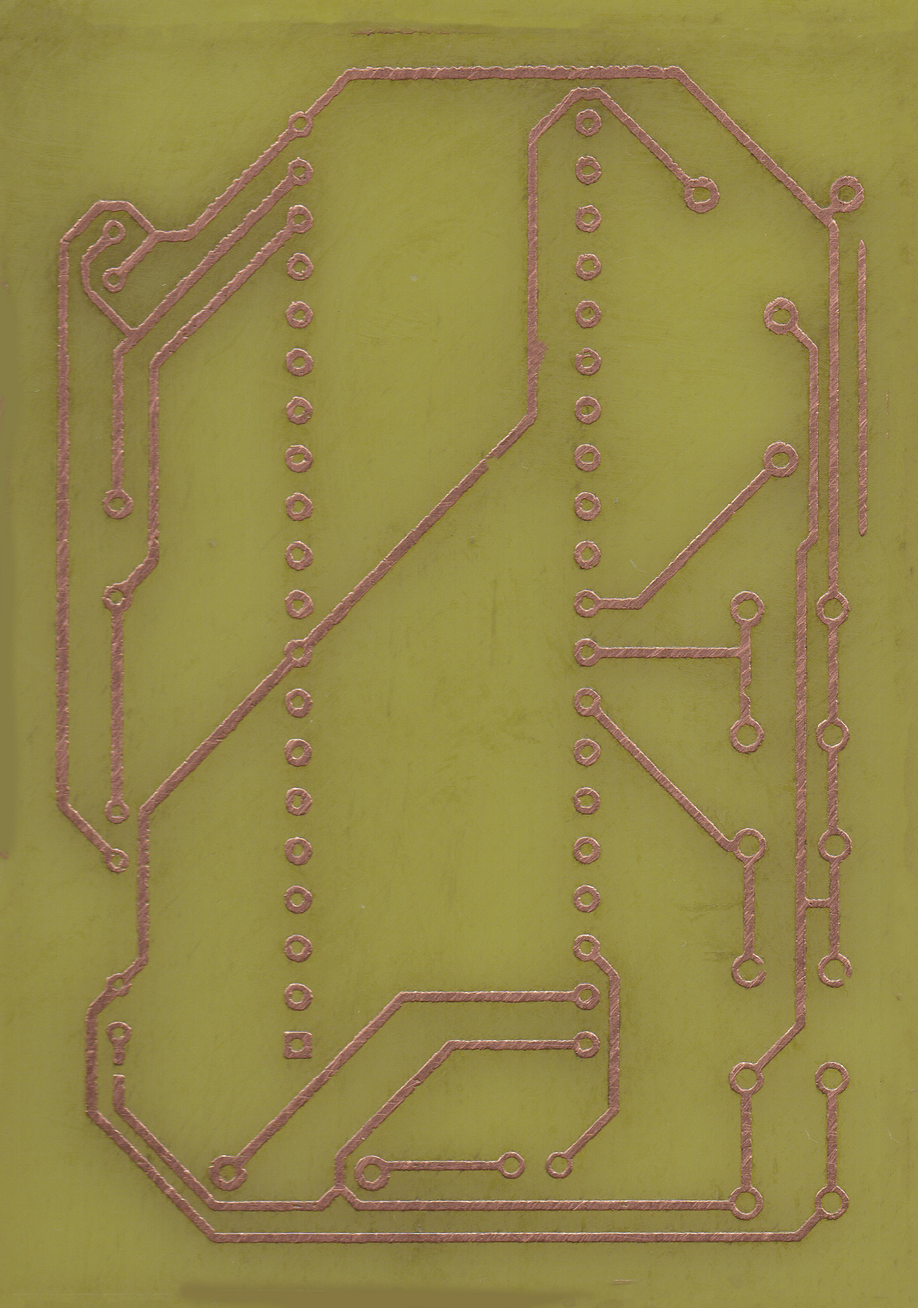missing_hole: (730, 953, 766, 990), (817, 953, 853, 988)
mouse_bite: (741, 680, 752, 703), (486, 454, 499, 472)
open_circuit: (113, 1060, 125, 1081)
short: (796, 891, 840, 914)
spur: (526, 332, 550, 373)
spurious_copper: (852, 236, 873, 541)
